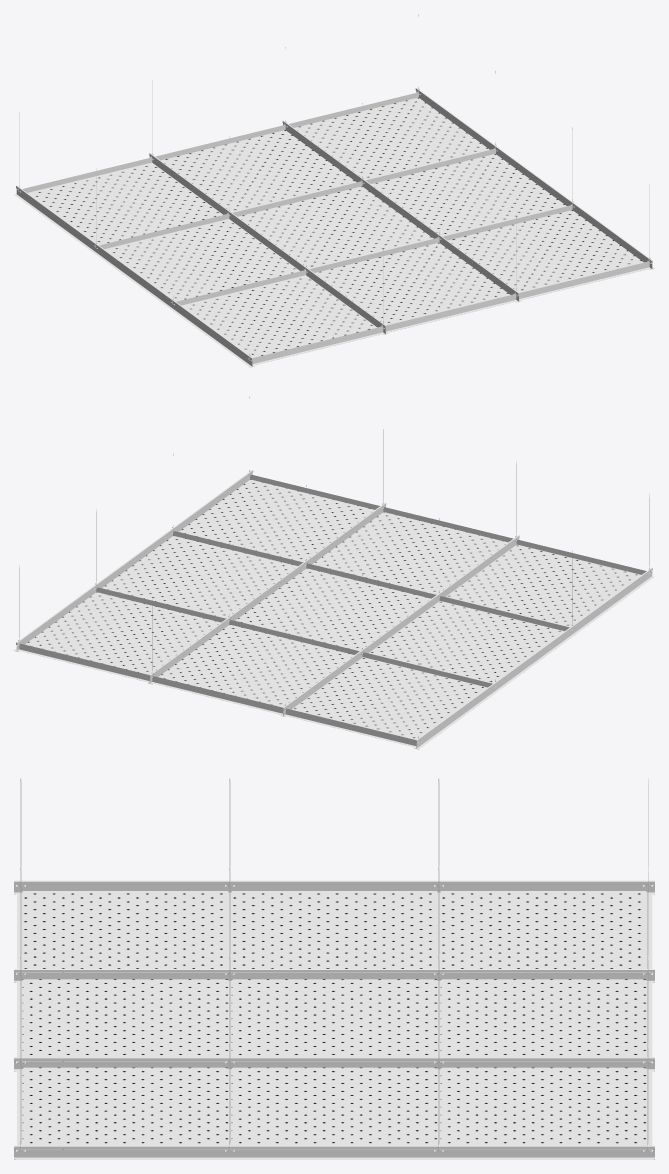
3 views of the same model, one above another, from view 1: azimuth 30°, elevation 25°; view 2: azimuth 150°, elevation 25°; view 3: azimuth 270°, elevation 25° (orthographic). The views are drawn at different scales.
Visible parts, largest first — view 1: Single_CeilingTile_Detailed TegularEdge [306444]_Material #2, Single_CeilingTile_Detailed TegularEdge [306445]_Material #2, Single_CeilingTile_Detailed TegularEdge [306441]_Material #2, Single_CeilingTile_Detailed TegularEdge [306438]_Material #3, Single_CeilingTile_Detailed TegularEdge [306443]_Material #2, Single_CeilingTile_Detailed TegularEdge [306442]_Material #2, Single_CeilingTile_Detailed TegularEdge [306440]_Material #3, Single_CeilingTile_Detailed TegularEdge [306435]_Material #3, Single_CeilingTile_Detailed TegularEdge [306437]_Material #3, CeilingGrid2_Detailed 24mm [306457], CeilingGrid_Detailed 24mm [306455], CeilingGrid2_Detailed 24mm [306456] (+5 smaller); view 2: Single_CeilingTile_Detailed TegularEdge [306437]_Material #3, Single_CeilingTile_Detailed TegularEdge [306438]_Material #3, Single_CeilingTile_Detailed TegularEdge [306435]_Material #3, Single_CeilingTile_Detailed TegularEdge [306442]_Material #2, Single_CeilingTile_Detailed TegularEdge [306443]_Material #2, Single_CeilingTile_Detailed TegularEdge [306441]_Material #2, Single_CeilingTile_Detailed TegularEdge [306440]_Material #3, Single_CeilingTile_Detailed TegularEdge [306445]_Material #2, Single_CeilingTile_Detailed TegularEdge [306444]_Material #2, CeilingGrid2_Detailed 24mm [306456], CeilingGrid_Detailed 24mm [306455], CeilingGrid2_Detailed 24mm [306457] (+5 smaller); view 3: Single_CeilingTile_Detailed TegularEdge [306444]_Material #2, Single_CeilingTile_Detailed TegularEdge [306441]_Material #2, Single_CeilingTile_Detailed TegularEdge [306445]_Material #2, Single_CeilingTile_Detailed TegularEdge [306442]_Material #2, Single_CeilingTile_Detailed TegularEdge [306438]_Material #3, Single_CeilingTile_Detailed TegularEdge [306437]_Material #3, Single_CeilingTile_Detailed TegularEdge [306443]_Material #2, Single_CeilingTile_Detailed TegularEdge [306440]_Material #3, Single_CeilingTile_Detailed TegularEdge [306435]_Material #3, CeilingGrid_Detailed 24mm [306454], CeilingGrid_Detailed 24mm [306436], CeilingGrid_Detailed 24mm [306439] (+5 smaller).
Part boxes in pixels (left/top/right/bottom): Single_CeilingTile_Detailed TegularEdge [306444]_Material #2: left=315, top=242, right=509, bottom=325; Single_CeilingTile_Detailed TegularEdge [306445]_Material #2: left=448, top=210, right=643, bottom=293; Single_CeilingTile_Detailed TegularEdge [306441]_Material #2: left=238, top=186, right=433, bottom=268; Single_CeilingTile_Detailed TegularEdge [306438]_Material #3: left=294, top=97, right=489, bottom=180; Single_CeilingTile_Detailed TegularEdge [306443]_Material #2: left=181, top=275, right=376, bottom=357; Single_CeilingTile_Detailed TegularEdge [306442]_Material #2: left=371, top=154, right=566, bottom=236; Single_CeilingTile_Detailed TegularEdge [306440]_Material #3: left=104, top=219, right=299, bottom=301; Single_CeilingTile_Detailed TegularEdge [306435]_Material #3: left=28, top=162, right=222, bottom=245; Single_CeilingTile_Detailed TegularEdge [306437]_Material #3: left=161, top=130, right=356, bottom=212; CeilingGrid2_Detailed 24mm [306457]: left=251, top=261, right=649, bottom=365; CeilingGrid_Detailed 24mm [306455]: left=14, top=185, right=254, bottom=367; CeilingGrid2_Detailed 24mm [306456]: left=20, top=92, right=418, bottom=192; Single_CeilingTile_Detailed TegularEdge [306437]_Material #3: left=159, top=624, right=353, bottom=707; Single_CeilingTile_Detailed TegularEdge [306438]_Material #3: left=25, top=592, right=220, bottom=675; Single_CeilingTile_Detailed TegularEdge [306435]_Material #3: left=292, top=657, right=487, bottom=739; Single_CeilingTile_Detailed TegularEdge [306442]_Material #2: left=102, top=536, right=297, bottom=618; Single_CeilingTile_Detailed TegularEdge [306443]_Material #2: left=445, top=544, right=640, bottom=627; Single_CeilingTile_Detailed TegularEdge [306441]_Material #2: left=235, top=568, right=430, bottom=650; Single_CeilingTile_Detailed TegularEdge [306440]_Material #3: left=369, top=601, right=564, bottom=683; Single_CeilingTile_Detailed TegularEdge [306445]_Material #2: left=179, top=479, right=374, bottom=562; Single_CeilingTile_Detailed TegularEdge [306444]_Material #2: left=312, top=512, right=507, bottom=594; CeilingGrid2_Detailed 24mm [306456]: left=19, top=643, right=416, bottom=747; CeilingGrid_Detailed 24mm [306455]: left=414, top=567, right=654, bottom=749; CeilingGrid2_Detailed 24mm [306457]: left=250, top=474, right=648, bottom=574; Single_CeilingTile_Detailed TegularEdge [306444]_Material #2: left=22, top=979, right=228, bottom=1063; Single_CeilingTile_Detailed TegularEdge [306441]_Material #2: left=231, top=979, right=437, bottom=1063; Single_CeilingTile_Detailed TegularEdge [306445]_Material #2: left=22, top=1067, right=228, bottom=1151; Single_CeilingTile_Detailed TegularEdge [306442]_Material #2: left=231, top=1067, right=437, bottom=1151; Single_CeilingTile_Detailed TegularEdge [306438]_Material #3: left=440, top=1067, right=646, bottom=1151; Single_CeilingTile_Detailed TegularEdge [306437]_Material #3: left=440, top=979, right=646, bottom=1063; Single_CeilingTile_Detailed TegularEdge [306443]_Material #2: left=22, top=891, right=228, bottom=974; Single_CeilingTile_Detailed TegularEdge [306440]_Material #3: left=231, top=891, right=437, bottom=974; Single_CeilingTile_Detailed TegularEdge [306435]_Material #3: left=440, top=891, right=646, bottom=974; CeilingGrid_Detailed 24mm [306454]: left=14, top=1145, right=654, bottom=1159; CeilingGrid_Detailed 24mm [306436]: left=14, top=969, right=654, bottom=982; CeilingGrid_Detailed 24mm [306439]: left=14, top=1057, right=654, bottom=1071.
Size of the model in its own units: 2.32 by 0.4701 by 2.34.
10 materials, 9 textured.
